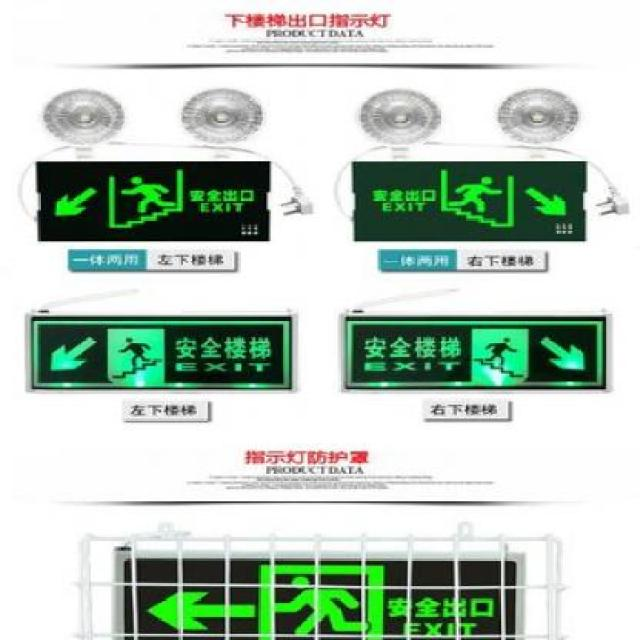exit_sign: (65, 516, 577, 640), (31, 303, 301, 407), (40, 144, 291, 250), (349, 303, 608, 390), (343, 151, 602, 238)
